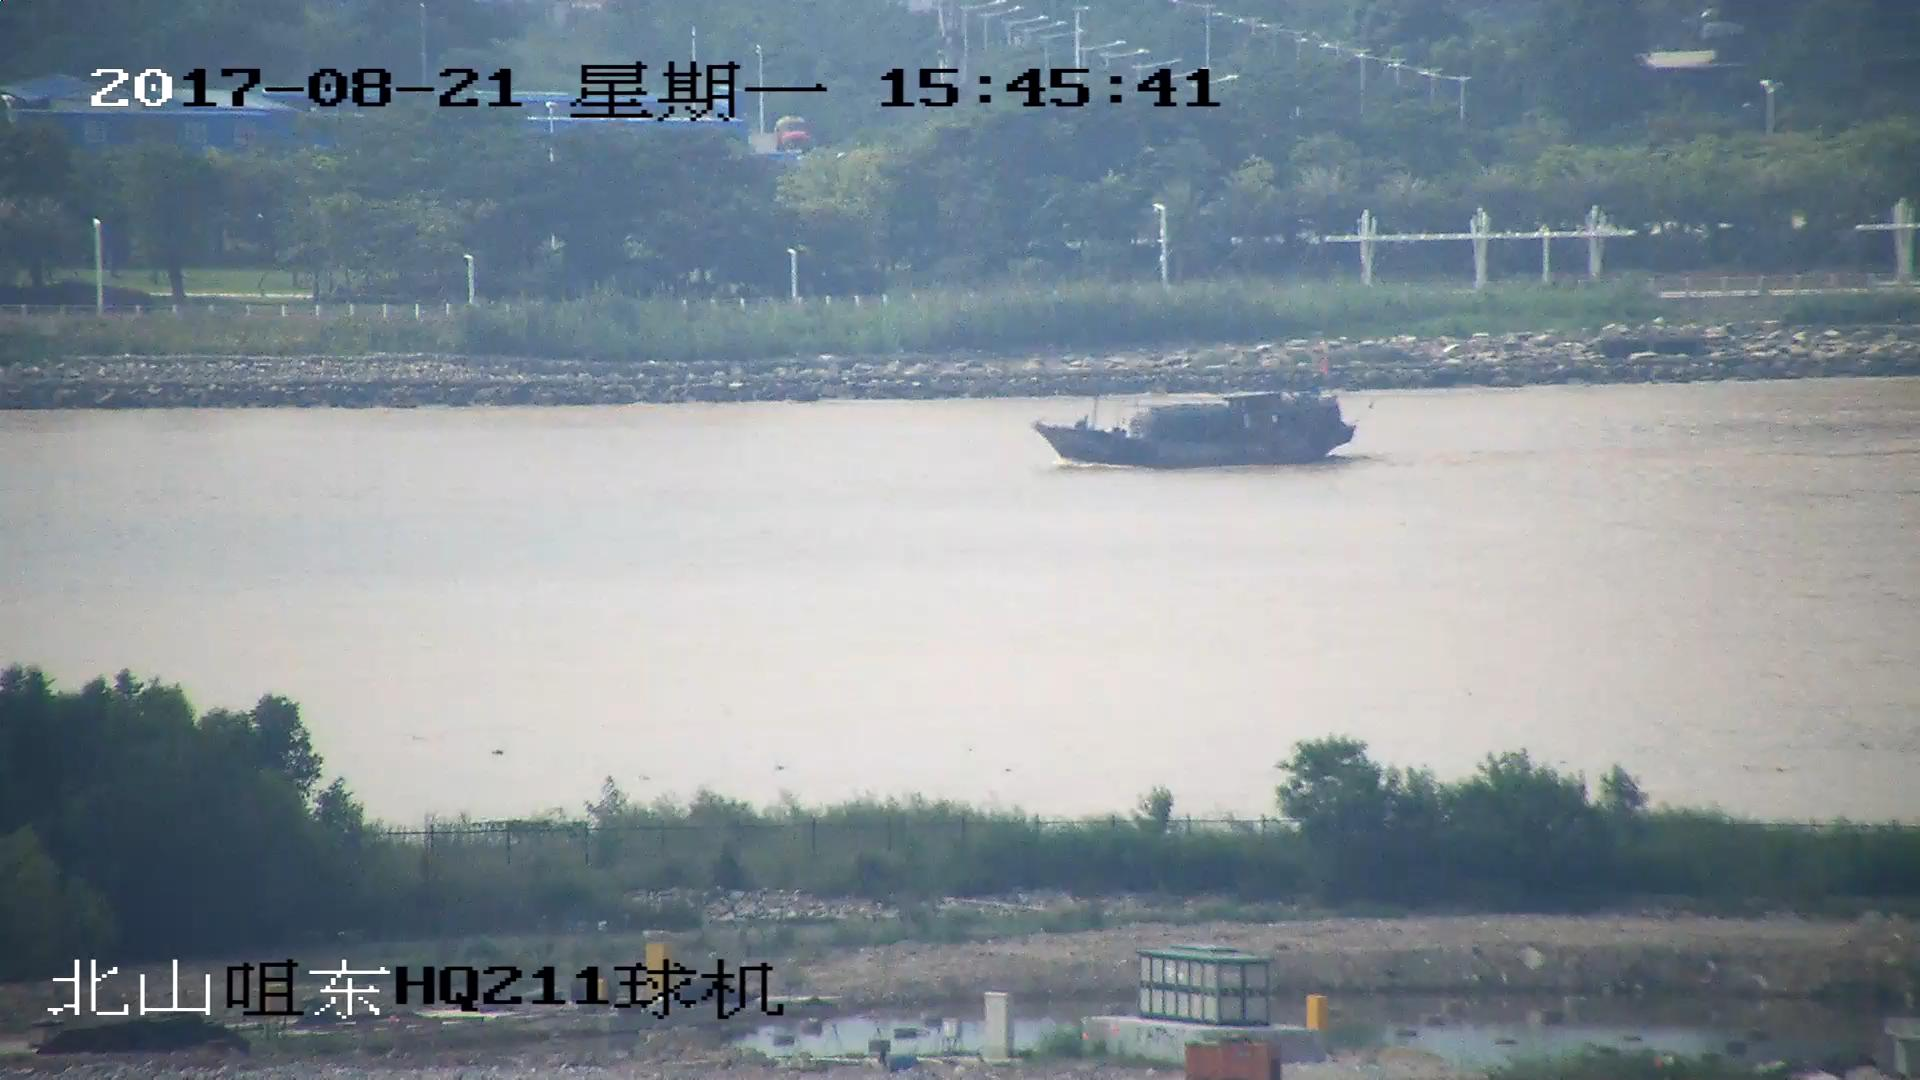fishing boat: (1037, 384, 1356, 467)
